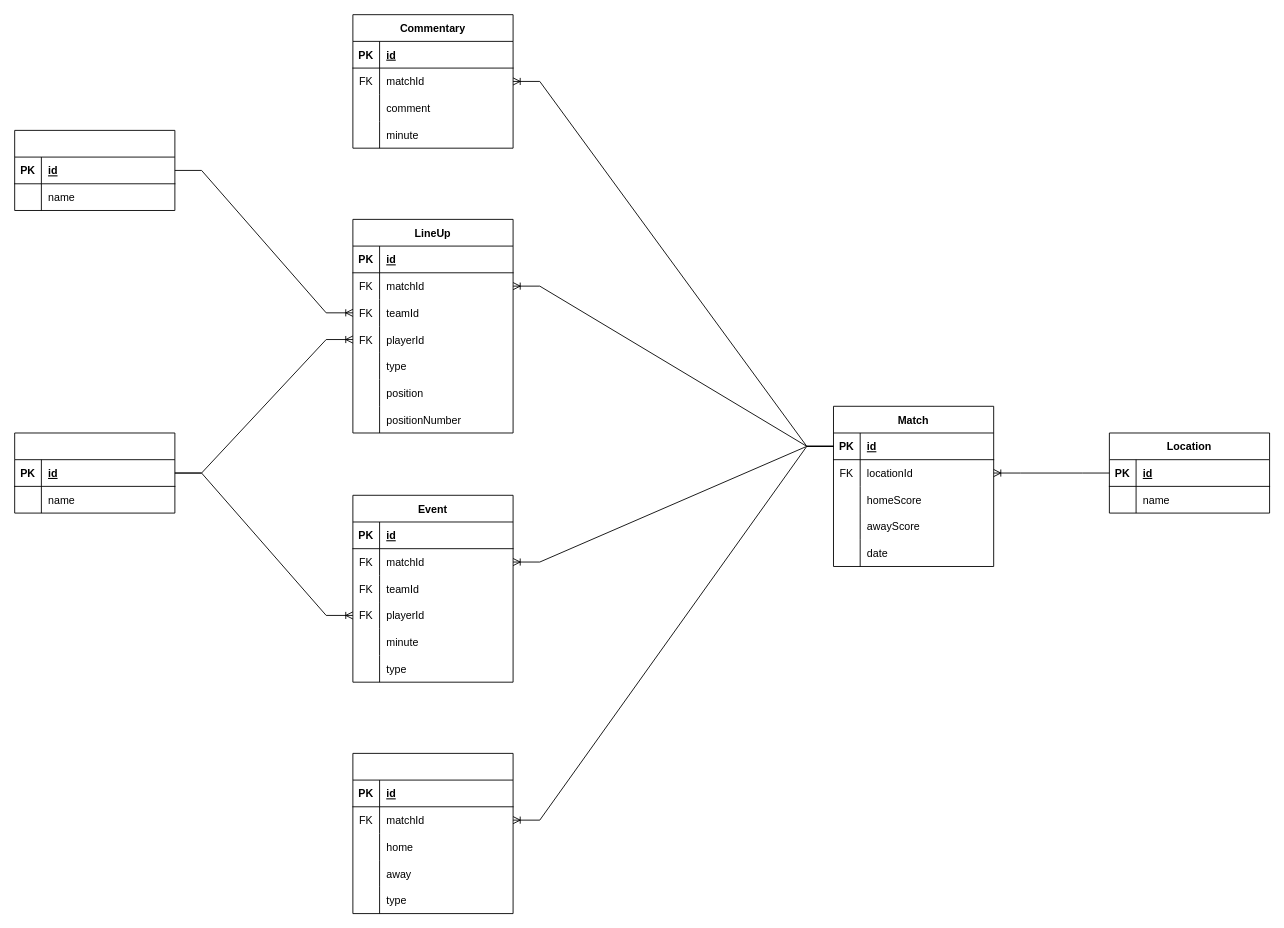
The diagram is 1284 pixels wide and 928 high, and some of its shapes have lost their labels. The box of each missing label's shape, as (x1, y1, x2, y2) in pixels:
Player: (14, 432, 175, 513)
Stat: (352, 752, 513, 914)
Team: (14, 129, 175, 210)
